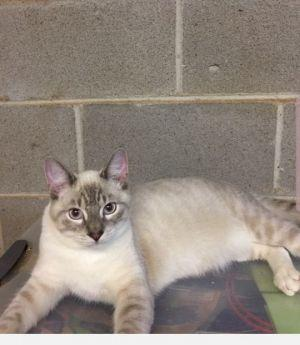siamese: (40, 148, 140, 257)
